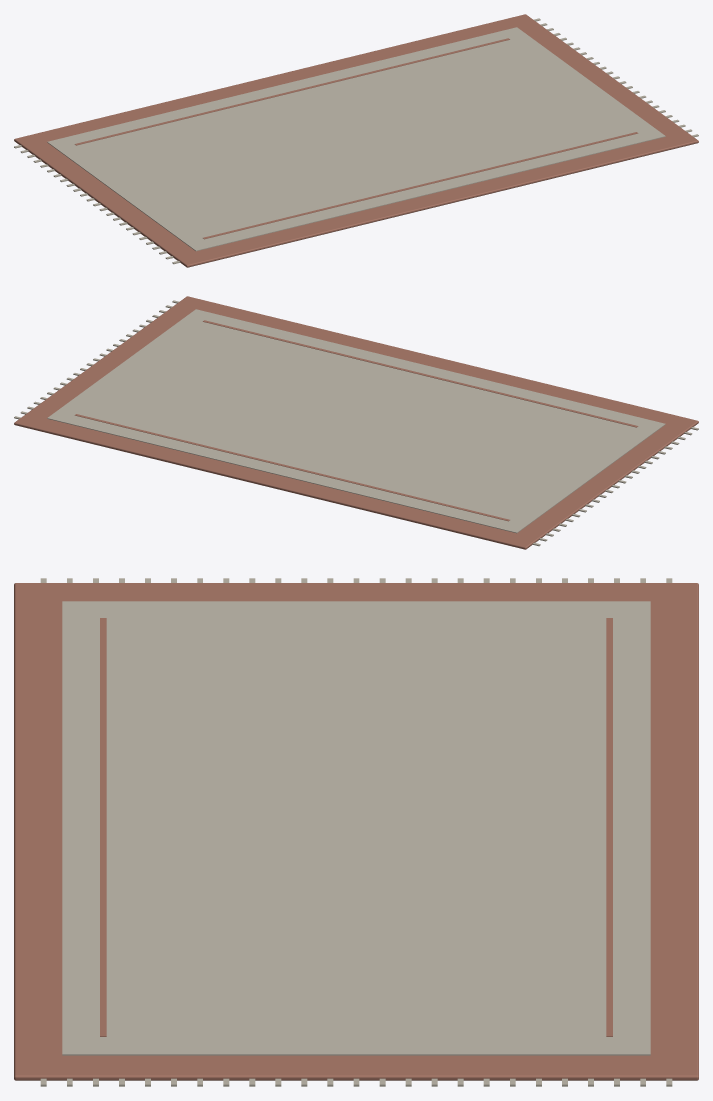
Rendered from room-rug.glb.
3 renders of one model, top to bottom at view 1: azimuth 30°, elevation 25°; view 2: azimuth 150°, elevation 25°; view 3: azimuth 270°, elevation 25°, orthographic. The views are drawn at different scales.
Visible parts, largest first — view 1: carpet, carpetDarker; view 2: carpet, carpetDarker; view 3: carpet, carpetDarker.
Boxes of the visible parts, box(x1,y1,x2,y2) form: carpet: box(14, 18, 698, 264); carpetDarker: box(14, 14, 698, 267); carpet: box(14, 300, 698, 546); carpetDarker: box(14, 296, 698, 549); carpet: box(40, 578, 672, 1086); carpetDarker: box(14, 583, 698, 1080).
Bounding box in the file's own units: 1.61 × 0.0109 × 0.92.
